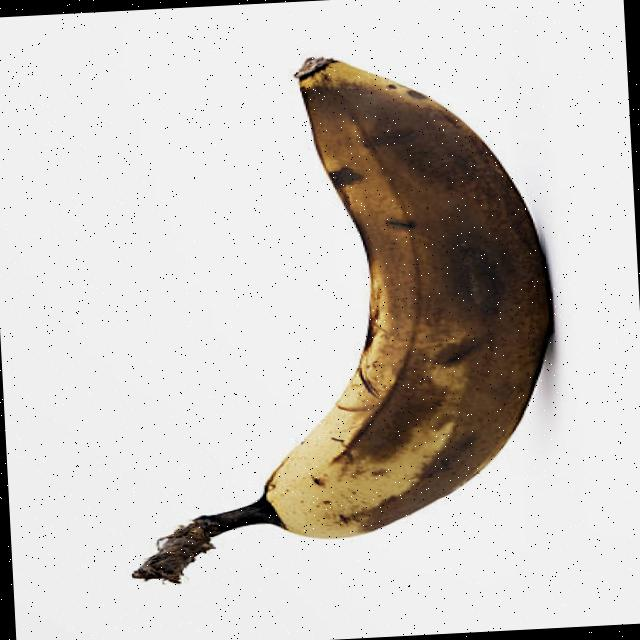overripe: (171, 39, 574, 548)
